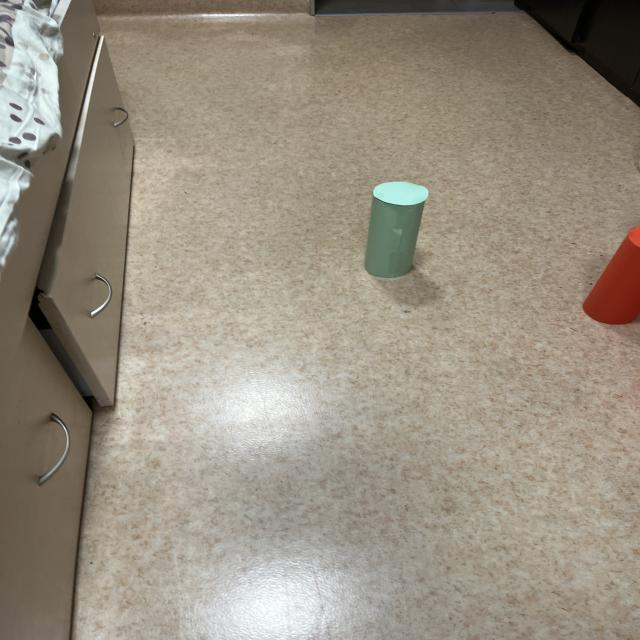meta: (365, 182, 428, 277)
